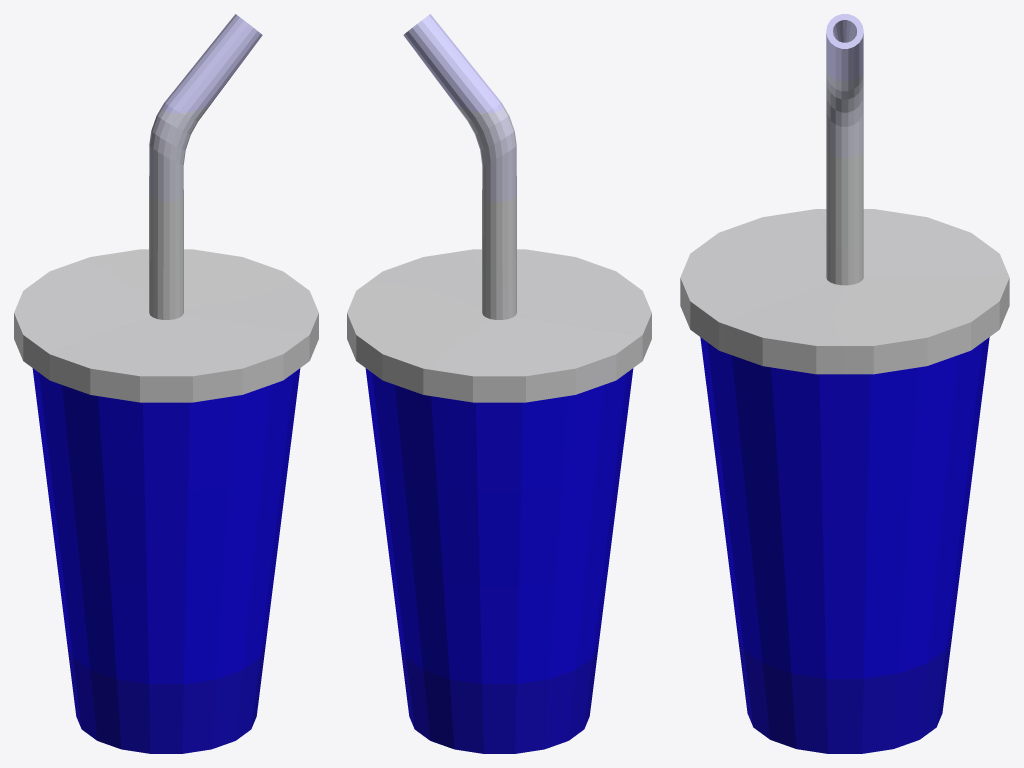
File: Soda.fbx
3 views of the same model, side by side, from view 1: azimuth 30°, elevation 25°; view 2: azimuth 150°, elevation 25°; view 3: azimuth 270°, elevation 25° (orthographic). The views are drawn at different scales.
Parts seen in each view (by area): view 1: Cylinder; view 2: Cylinder; view 3: Cylinder.
Part boxes in pixels (x1,y1,x2,y2): Cylinder: (14, 14, 318, 753); Cylinder: (347, 14, 651, 753); Cylinder: (680, 14, 1009, 753).
Size of the model in its own units: 16.68 by 41.83 by 16.93.
